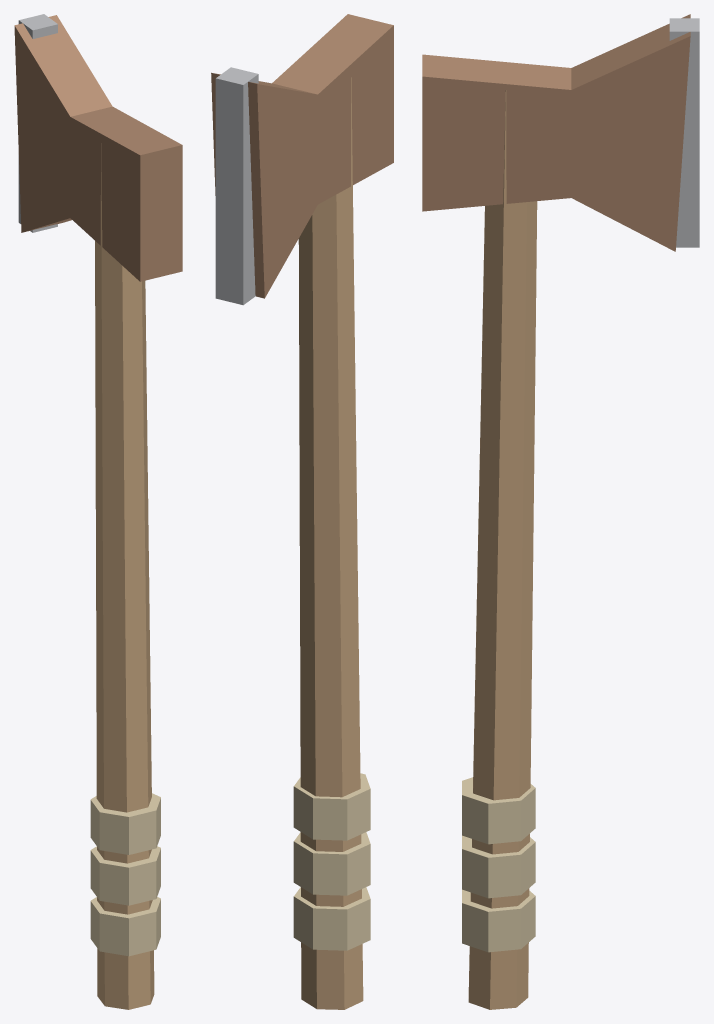
Rendered from Axe_0.fbx.
3 views of the same model, side by side, from view 1: azimuth 30°, elevation 25°; view 2: azimuth 150°, elevation 25°; view 3: azimuth 270°, elevation 25° (orthographic). The views are drawn at different scales.
Visible parts, largest first — view 1: Axe_0_Mesh; view 2: Axe_0_Mesh; view 3: Axe_0_Mesh.
Part boxes in pixels (x1,y1,x2,y2): Axe_0_Mesh: [14, 14, 182, 1009]; Axe_0_Mesh: [211, 14, 393, 1009]; Axe_0_Mesh: [422, 14, 699, 1009].
Size of the model in its own units: 0.0507 by 0.7203 by 0.186.
